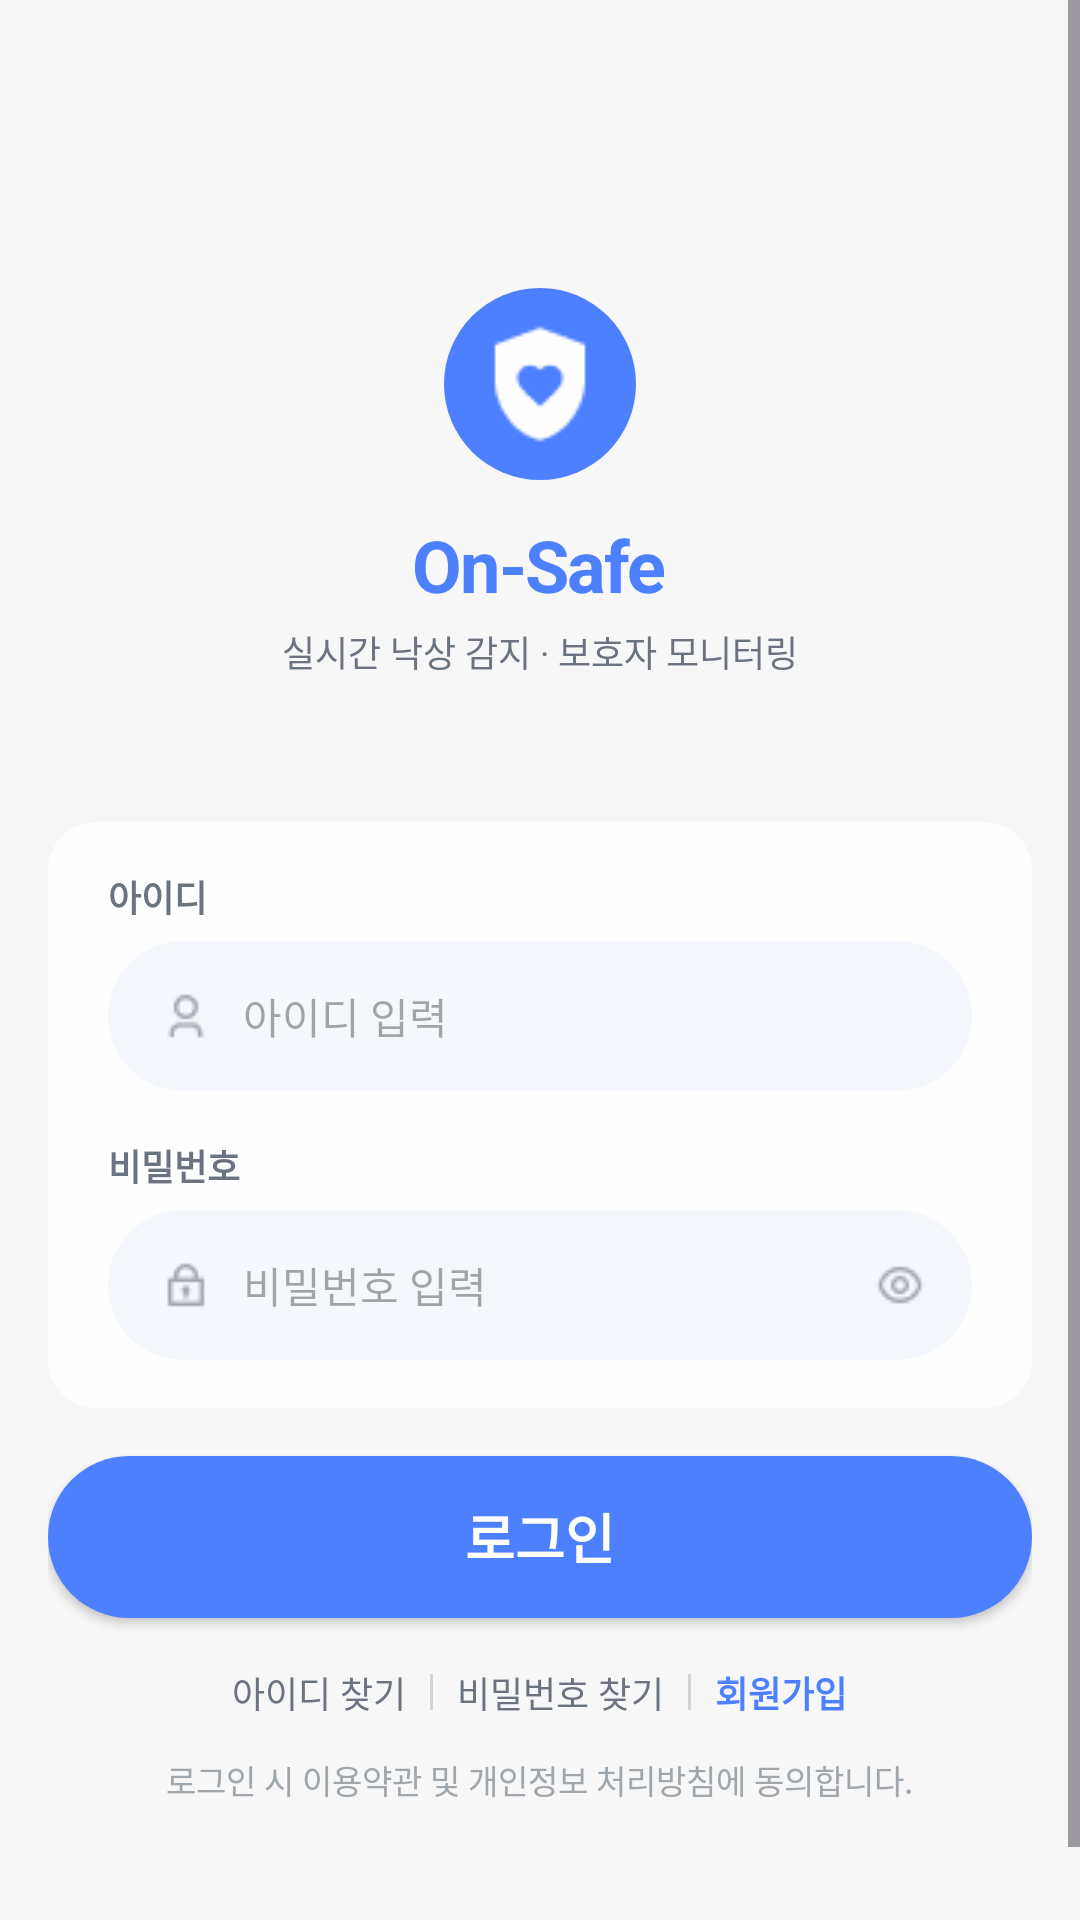

Icons on this 1080*1920 Android screen, each with its box as [x1,y1,x2,y2]:
비밀번호 보기: [878,1266,922,1304]
